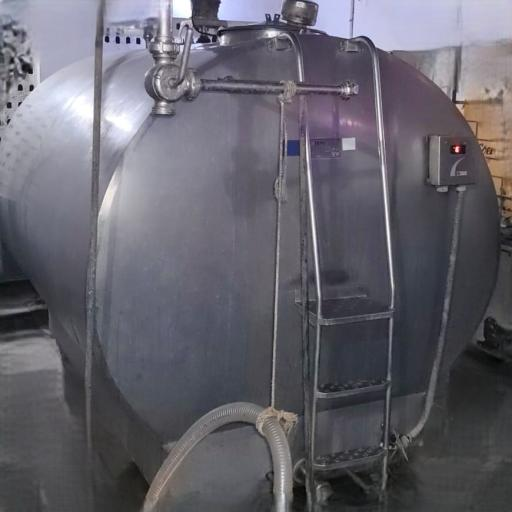silo: (0, 18, 504, 511)
